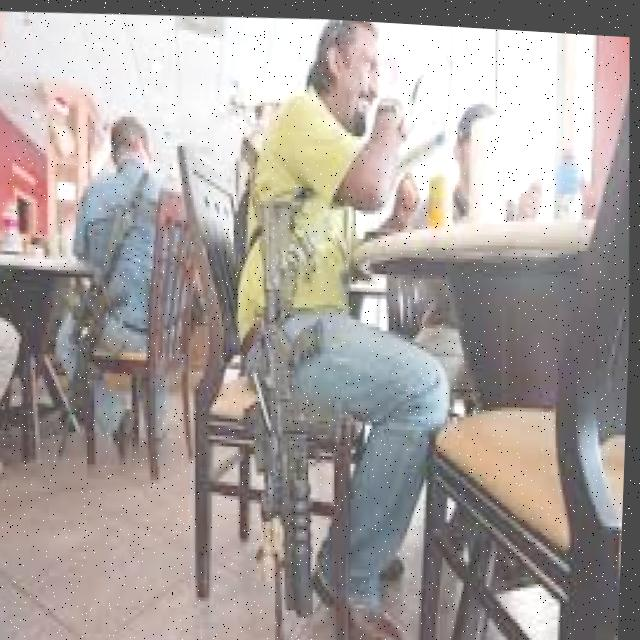firearm: (246, 188, 361, 621), (50, 233, 139, 461)
